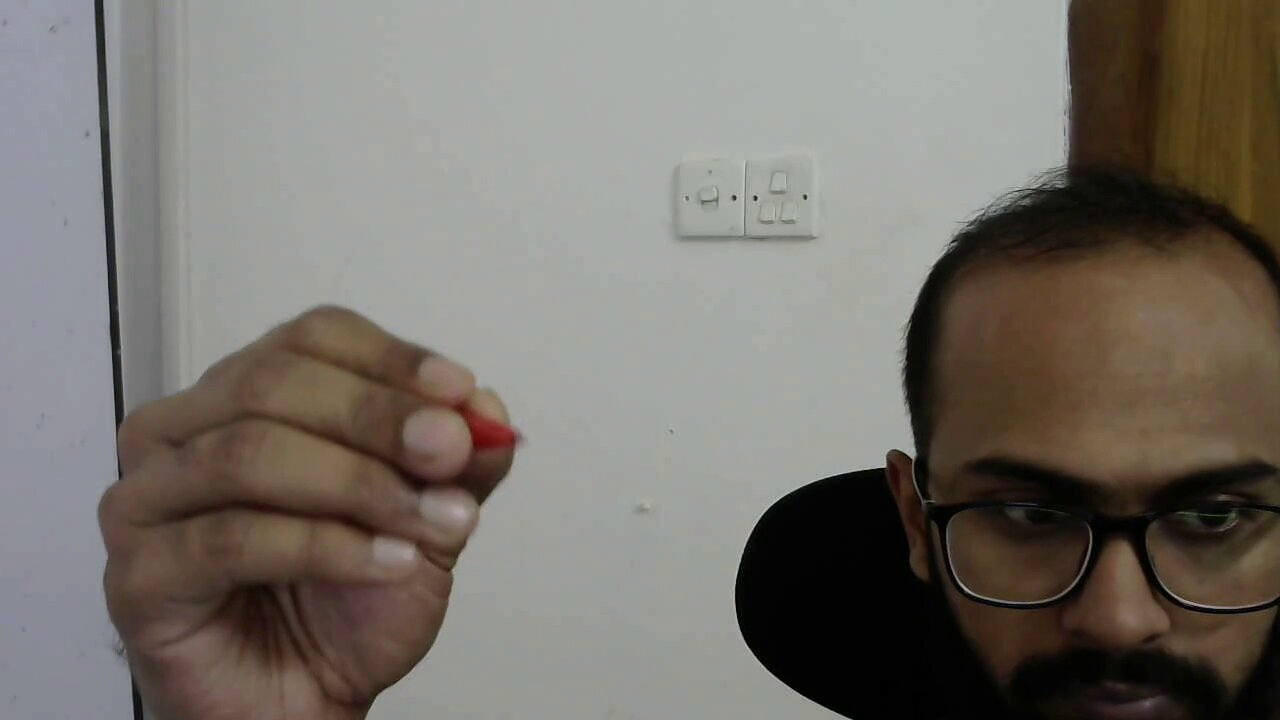pointer: (102, 303, 516, 667)
